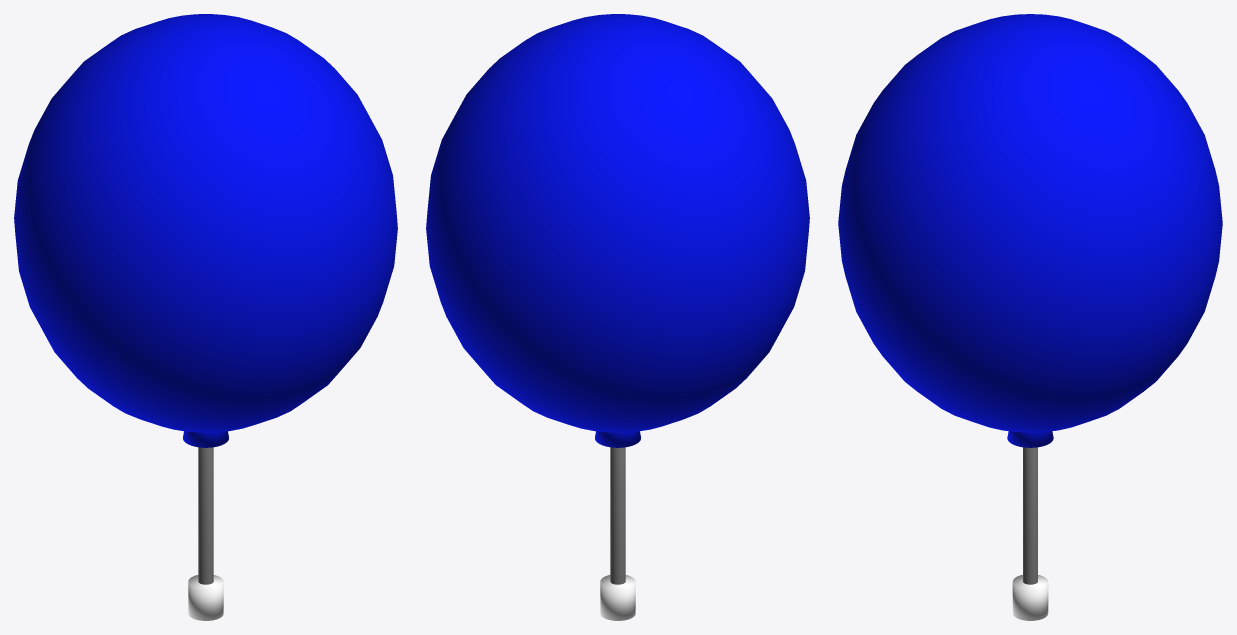
Rendered from Balloon_Minus.fbx.
3 renders of one model, left to right at view 1: azimuth 30°, elevation 25°; view 2: azimuth 150°, elevation 25°; view 3: azimuth 270°, elevation 25°, orthographic.
Parts seen in each view (by area): view 1: 球, 円柱, 円柱.002, 円柱.001; view 2: 球, 円柱, 円柱.002, 円柱.001; view 3: 球, 円柱, 円柱.002, 円柱.001.
Boxes of the visible parts, bbox=[...] form: 球: bbox=[14, 14, 397, 432]; 円柱: bbox=[198, 447, 213, 584]; 円柱.002: bbox=[188, 575, 223, 620]; 円柱.001: bbox=[183, 431, 228, 447]; 球: bbox=[426, 14, 809, 432]; 円柱: bbox=[610, 447, 625, 584]; 円柱.002: bbox=[600, 575, 635, 620]; 円柱.001: bbox=[595, 431, 640, 447]; 球: bbox=[838, 14, 1222, 432]; 円柱: bbox=[1023, 447, 1037, 584]; 円柱.002: bbox=[1012, 575, 1048, 620]; 円柱.001: bbox=[1007, 431, 1053, 447].
Size of the model in its own units: 200 by 335 by 200.
3 materials, 3 textured.
